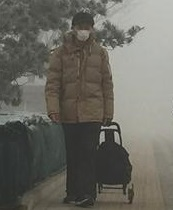person: (45, 11, 134, 206)
